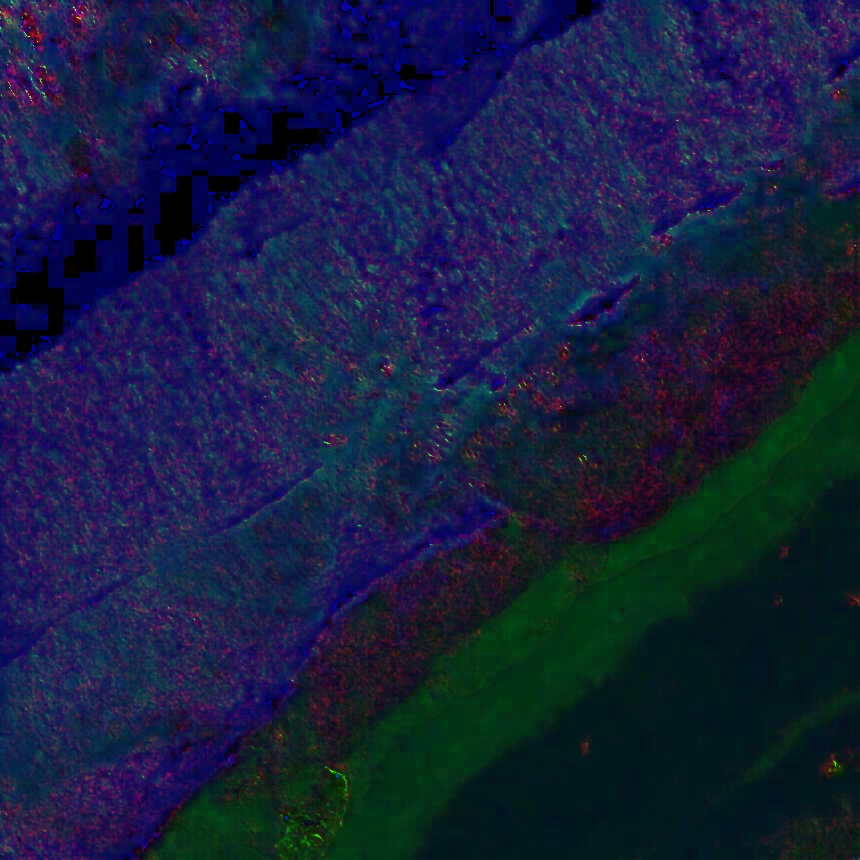rip_current: (145, 175, 576, 537)
